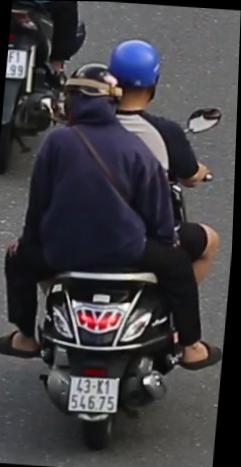LP: (67, 372, 124, 418)
helmet: (103, 33, 166, 117), (64, 60, 123, 121)
